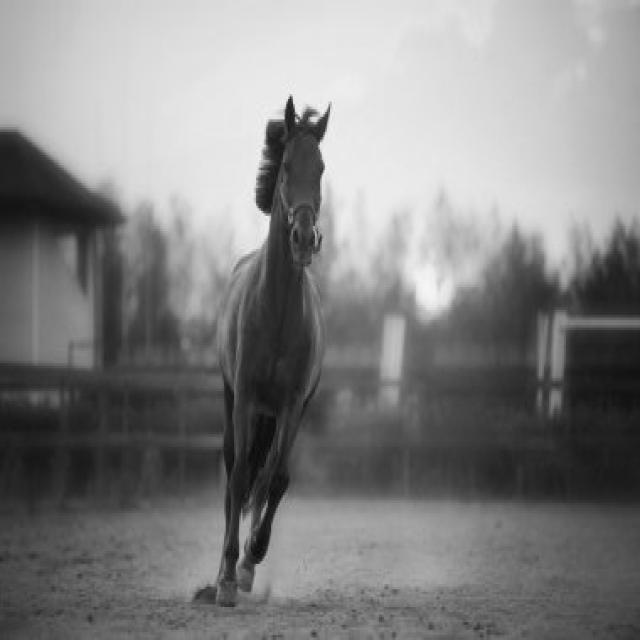Animal: (205, 90, 336, 608)
